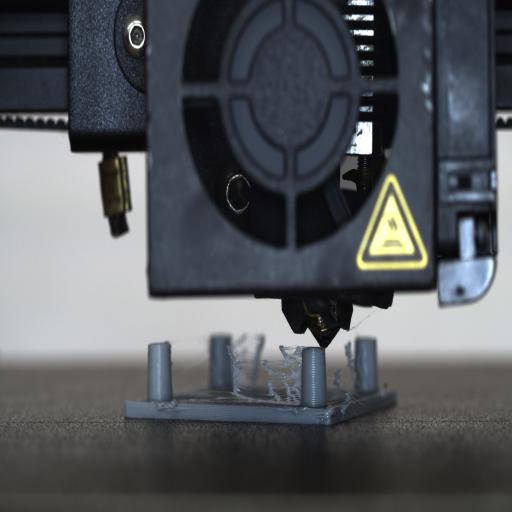stringing: (257, 337, 303, 403)
